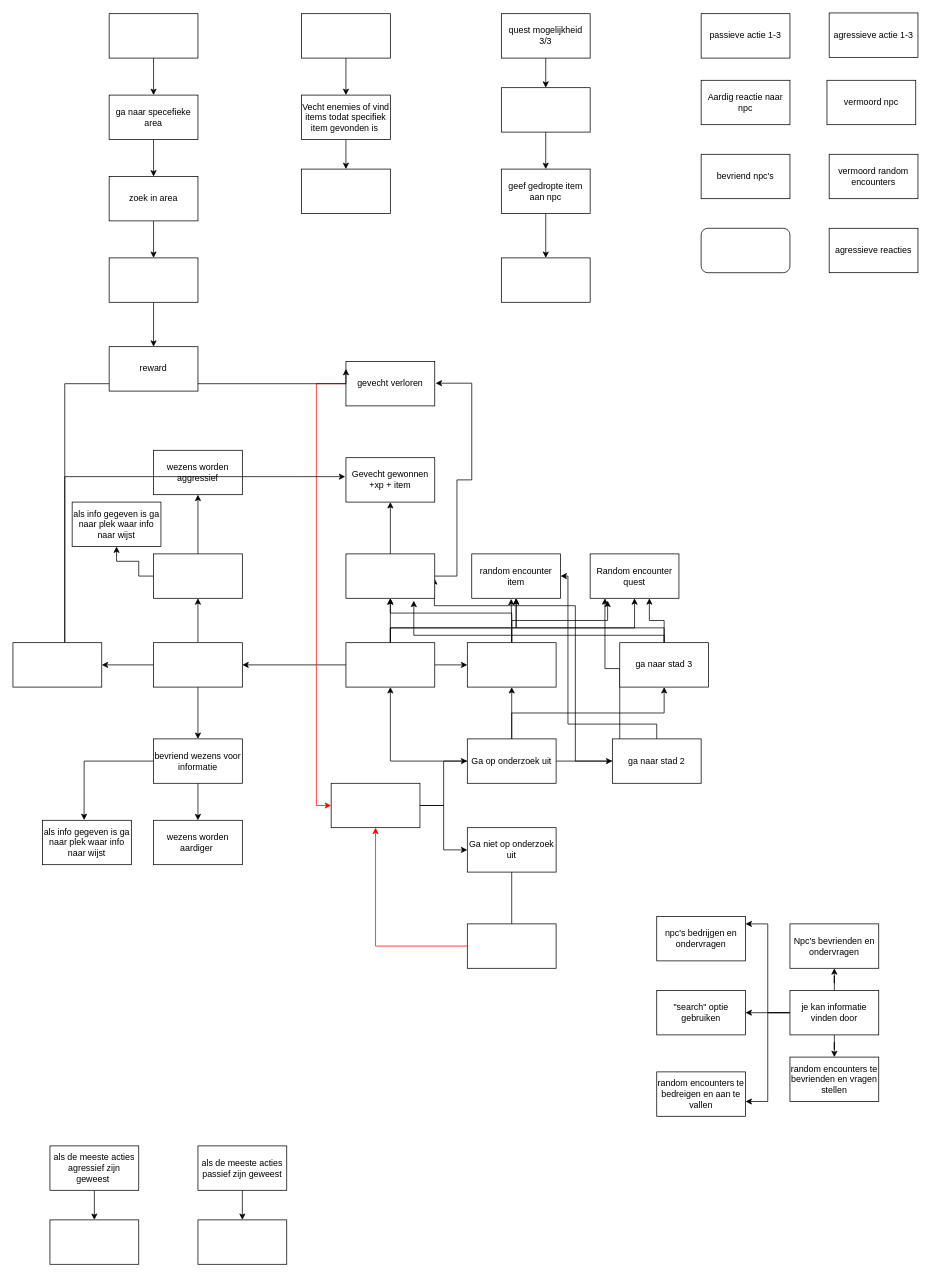
The diagram is 931 pixels wide and 1277 high, and some of its shapes have lost their labels. The centre of each missing label's shape, as x and y in pixels:
"als je eerder agressief bent geweest word je hier aangevallen" belongs at (x=57, y=664).
"bedrijgt wezens voor informatie" belongs at (x=197, y=575).
"Begin Van verhaal" belongs at (x=375, y=805).
"bevriend random encounters" belongs at (x=745, y=250).
"einde" belongs at (x=511, y=945).
"ending 3/4 villian" belongs at (x=94, y=1241).
"ending 4/4 held" belongs at (x=242, y=1241).
"Ga naar bos" belongs at (x=390, y=664).
"ga naar stad 1" belongs at (x=511, y=664).
"geef item aan npc en krijg reward" belongs at (x=345, y=190).
"krijg reward" belongs at (x=545, y=279).
"onderzoek wezens in het bos" belongs at (x=197, y=664).
"praat tegen specifieke npc" belongs at (x=153, y=279).
"quest mogelijkheid 1/3" belongs at (x=153, y=35).
"quest mogelijkheid 2/3" belongs at (x=345, y=35).
"Random encounter gevecht" belongs at (x=390, y=575).
"vecht/ bevriend Random encounter die beschreven is door npc" belongs at (x=545, y=109).
